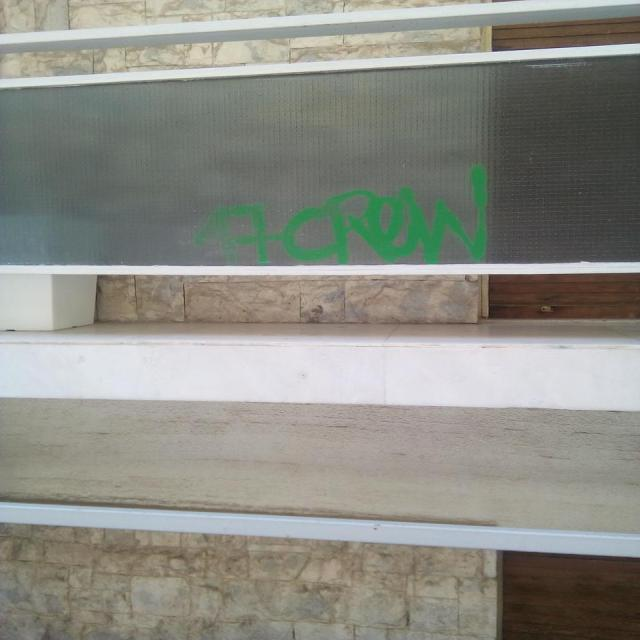nonspitting: (194, 163, 488, 261)
